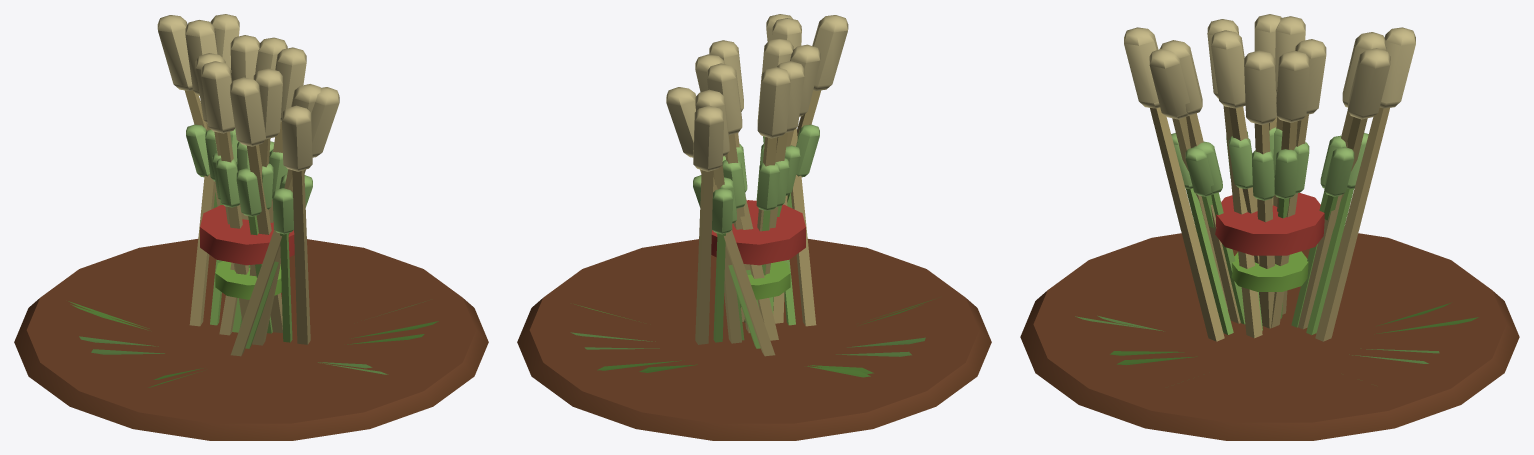
File: oats.glb
The picture shows the model from 3 angles, left to right: view 1: azimuth 30°, elevation 25°; view 2: azimuth 150°, elevation 25°; view 3: azimuth 270°, elevation 25°; orthographic projection. The views are drawn at different scales.
Parts seen in each view (by area): view 1: crop-oats-giant, crop-oats-giant-2; view 2: crop-oats-giant, crop-oats-giant-2; view 3: crop-oats-giant, crop-oats-giant-2.
Part boxes in pixels (left/top/right/bottom): crop-oats-giant: left=14, top=14, right=488, bottom=440; crop-oats-giant-2: left=70, top=124, right=438, bottom=379; crop-oats-giant: left=517, top=14, right=991, bottom=440; crop-oats-giant-2: left=584, top=124, right=923, bottom=374; crop-oats-giant: left=1020, top=14, right=1519, bottom=440; crop-oats-giant-2: left=1097, top=127, right=1451, bottom=365.
Size of the model in its own units: 5.61 by 3.95 by 5.7.
